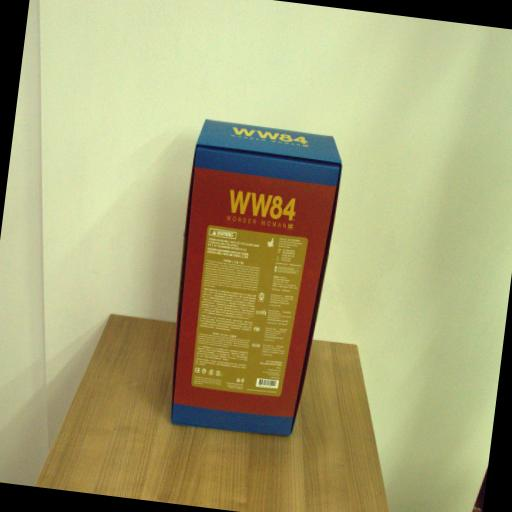WonderWoman: (158, 115, 346, 443)
